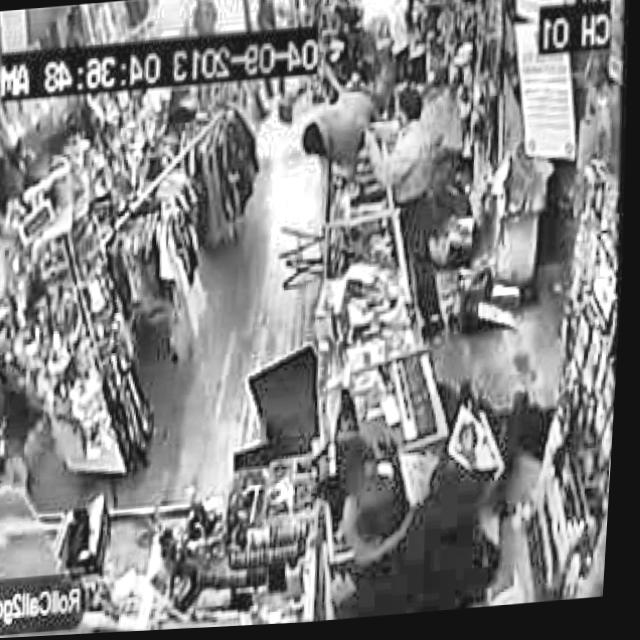robbery: (295, 67, 459, 218)
